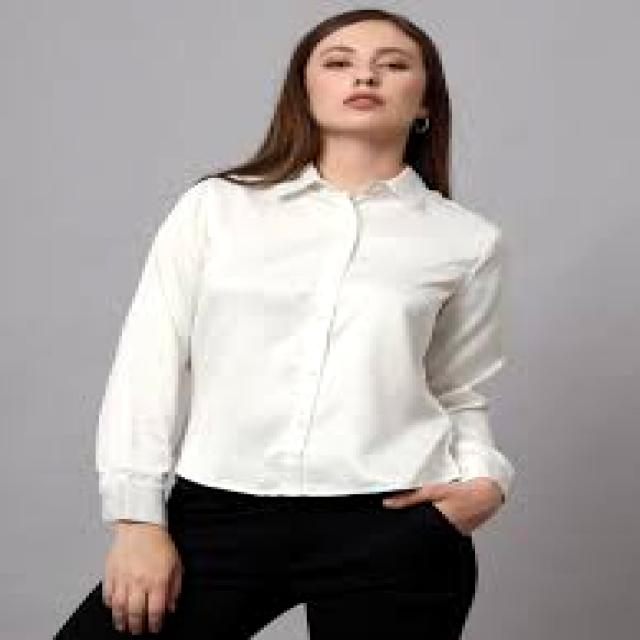face: (307, 20, 425, 135)
lower-wear: (139, 477, 478, 639)
top-wear: (96, 164, 514, 526)
